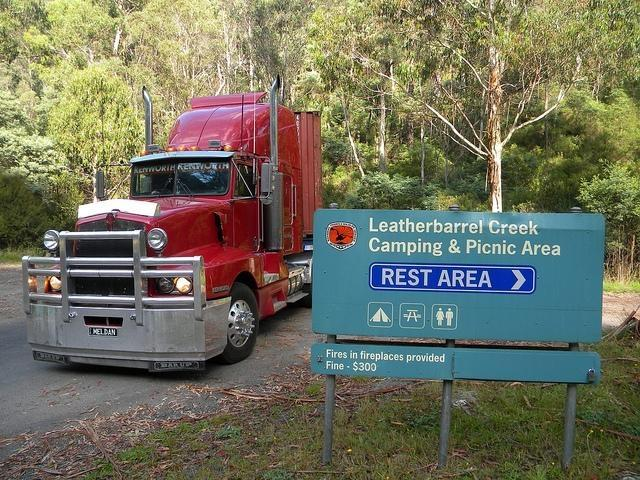truck: (20, 74, 322, 376)
